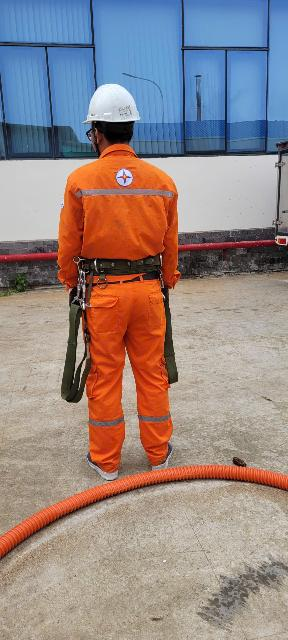harness: (67, 256, 169, 278)
helmet: (82, 74, 142, 124)
shoes: (132, 439, 191, 481), (77, 449, 121, 487)
